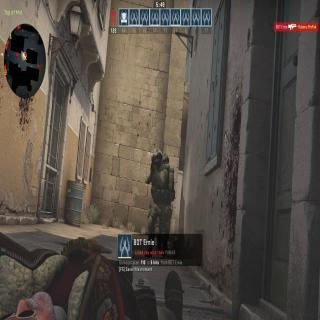CT-Body: (144, 145, 172, 228)
CT-Head: (151, 150, 162, 166)
